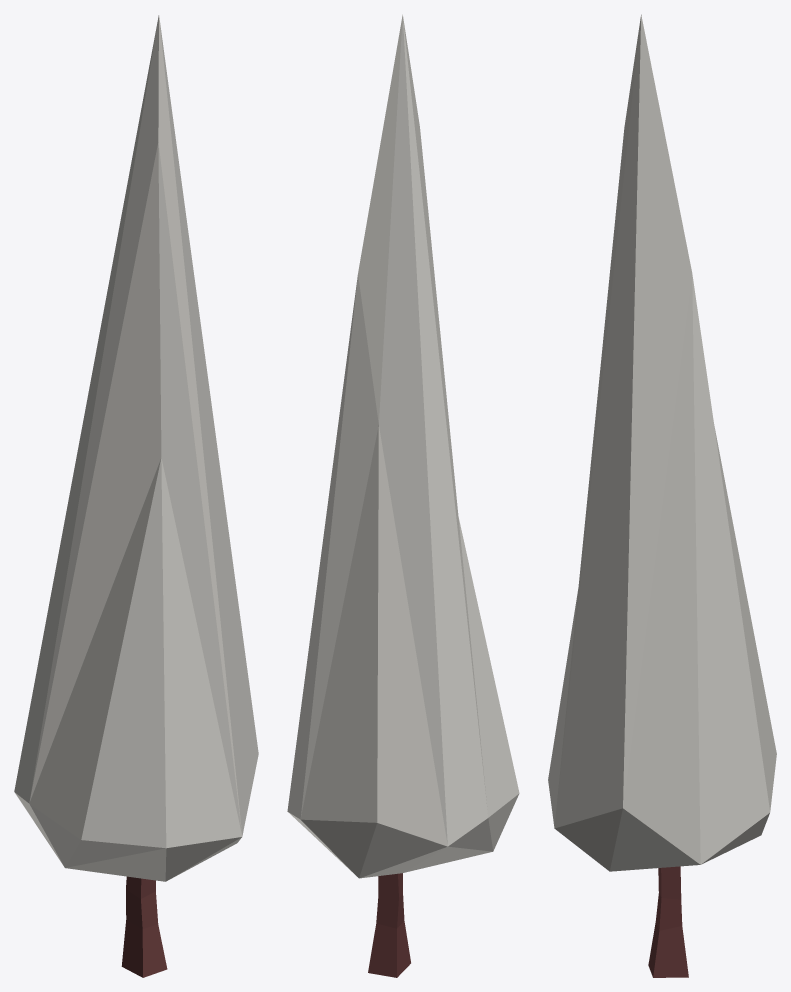
File: Cypress_S_flat.glb
3 renders of one model, left to right at view 1: azimuth 30°, elevation 25°; view 2: azimuth 150°, elevation 25°; view 3: azimuth 270°, elevation 25°, orthographic. The views are drawn at different scales.
Visible parts, largest first — view 1: Cypress small f; view 2: Cypress small f; view 3: Cypress small f.
Part boxes in pixels (x1,y1,x2,y2): Cypress small f: (14, 15, 258, 977); Cypress small f: (287, 14, 519, 977); Cypress small f: (548, 14, 776, 977).
Size of the model in its own units: 2.24 by 10.38 by 2.25.
